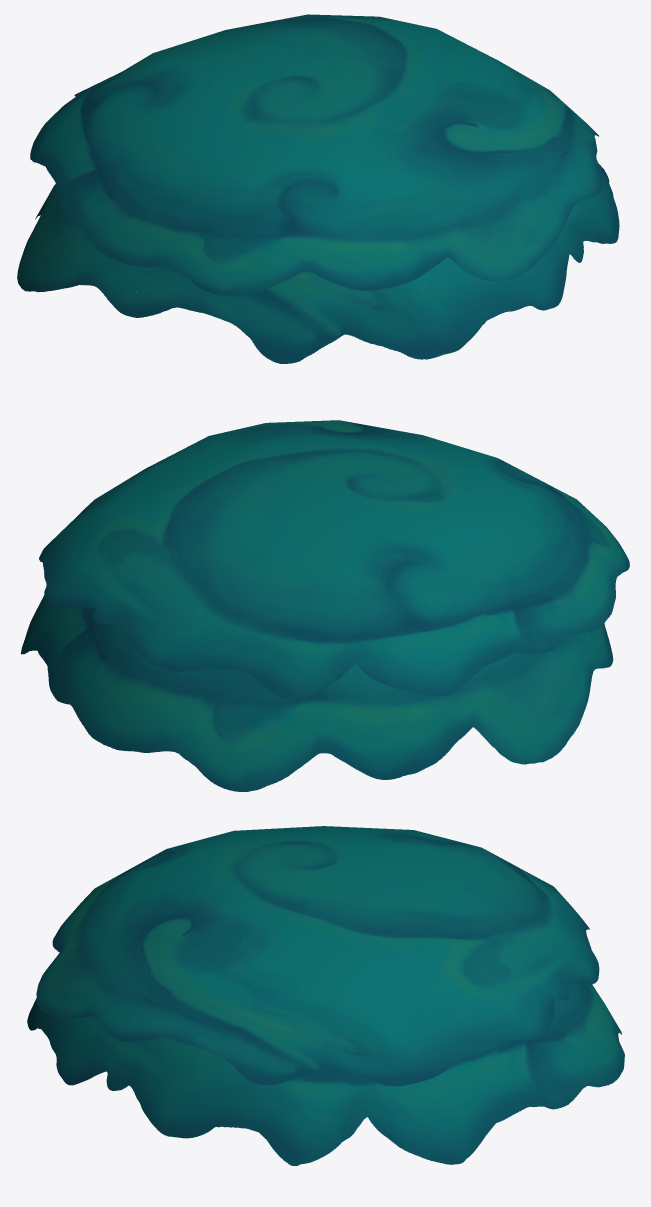
File: StruikPlat.FBX
The picture shows the model from 3 angles, top to bottom: view 1: azimuth 30°, elevation 25°; view 2: azimuth 150°, elevation 25°; view 3: azimuth 270°, elevation 25°; orthographic projection. The views are drawn at different scales.
Visible parts, largest first — view 1: Plane003; view 2: Plane003; view 3: Plane003.
Part boxes in pixels (<box>): Plane003: <box>17,14,619,363</box>; Plane003: <box>21,420,629,791</box>; Plane003: <box>27,826,624,1165</box>.
Size of the model in its own units: 52.52 by 17.14 by 52.21.
Materials: 1 (1 with a texture image).
